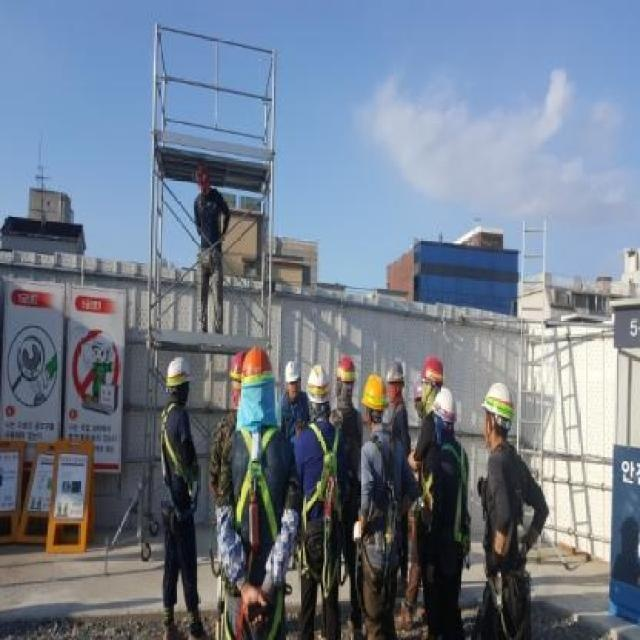Arnes_seguridad: (233, 424, 285, 548), (423, 435, 469, 554), (302, 420, 339, 534), (159, 401, 198, 502)
